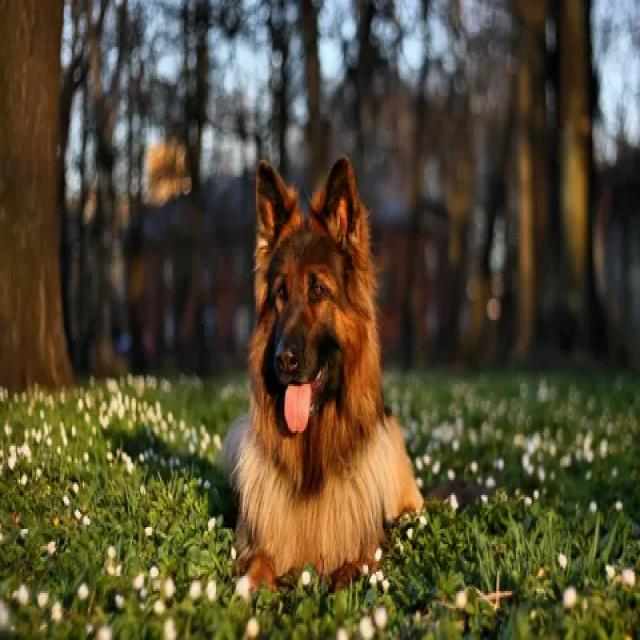Dog: (245, 156, 384, 564)
